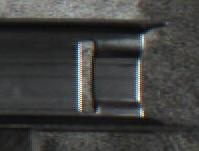press: (27, 14, 182, 134)
